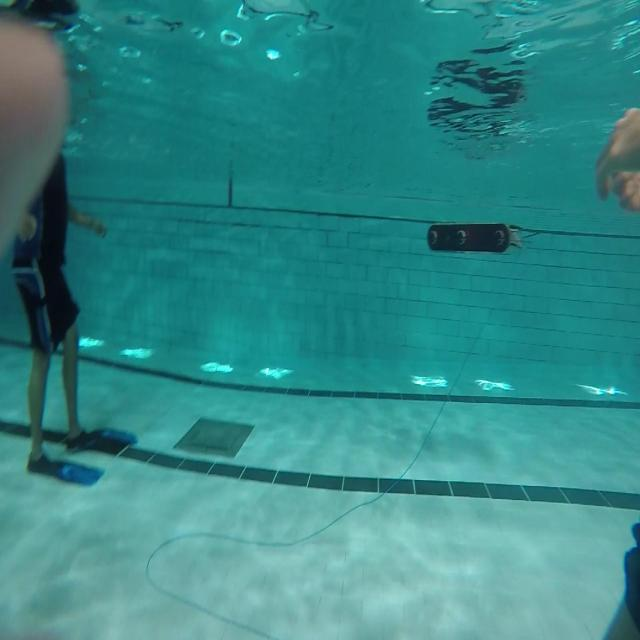human: (10, 149, 108, 473)
